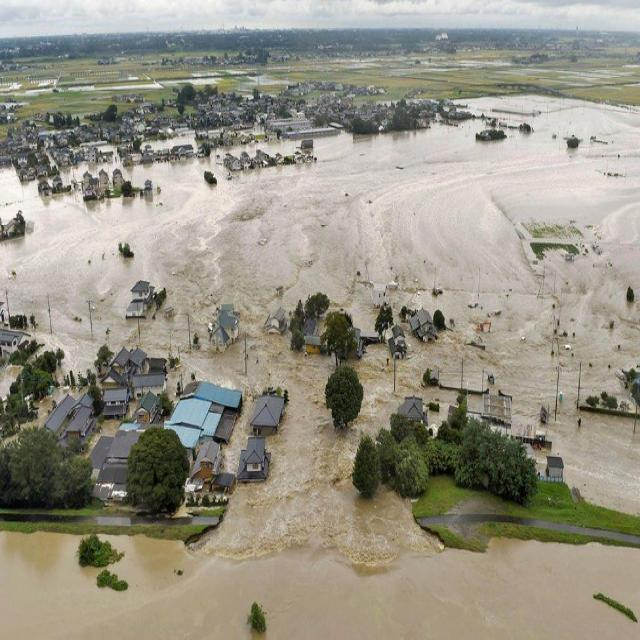flood: (0, 95, 640, 512), (0, 337, 640, 640)
house: (171, 380, 243, 440), (90, 430, 128, 506), (42, 395, 93, 449), (248, 388, 288, 432), (120, 274, 158, 320), (240, 436, 270, 482), (192, 442, 222, 479), (208, 315, 236, 351), (130, 372, 167, 398), (112, 346, 146, 371), (0, 208, 26, 240), (134, 392, 160, 424), (413, 309, 438, 342), (0, 328, 29, 355), (387, 324, 407, 357), (105, 388, 128, 414), (402, 396, 425, 418), (102, 368, 125, 388), (80, 172, 100, 195), (225, 154, 242, 172), (58, 148, 74, 166), (82, 147, 100, 162), (98, 169, 111, 189), (173, 144, 194, 156), (112, 168, 124, 185), (241, 152, 252, 168)
